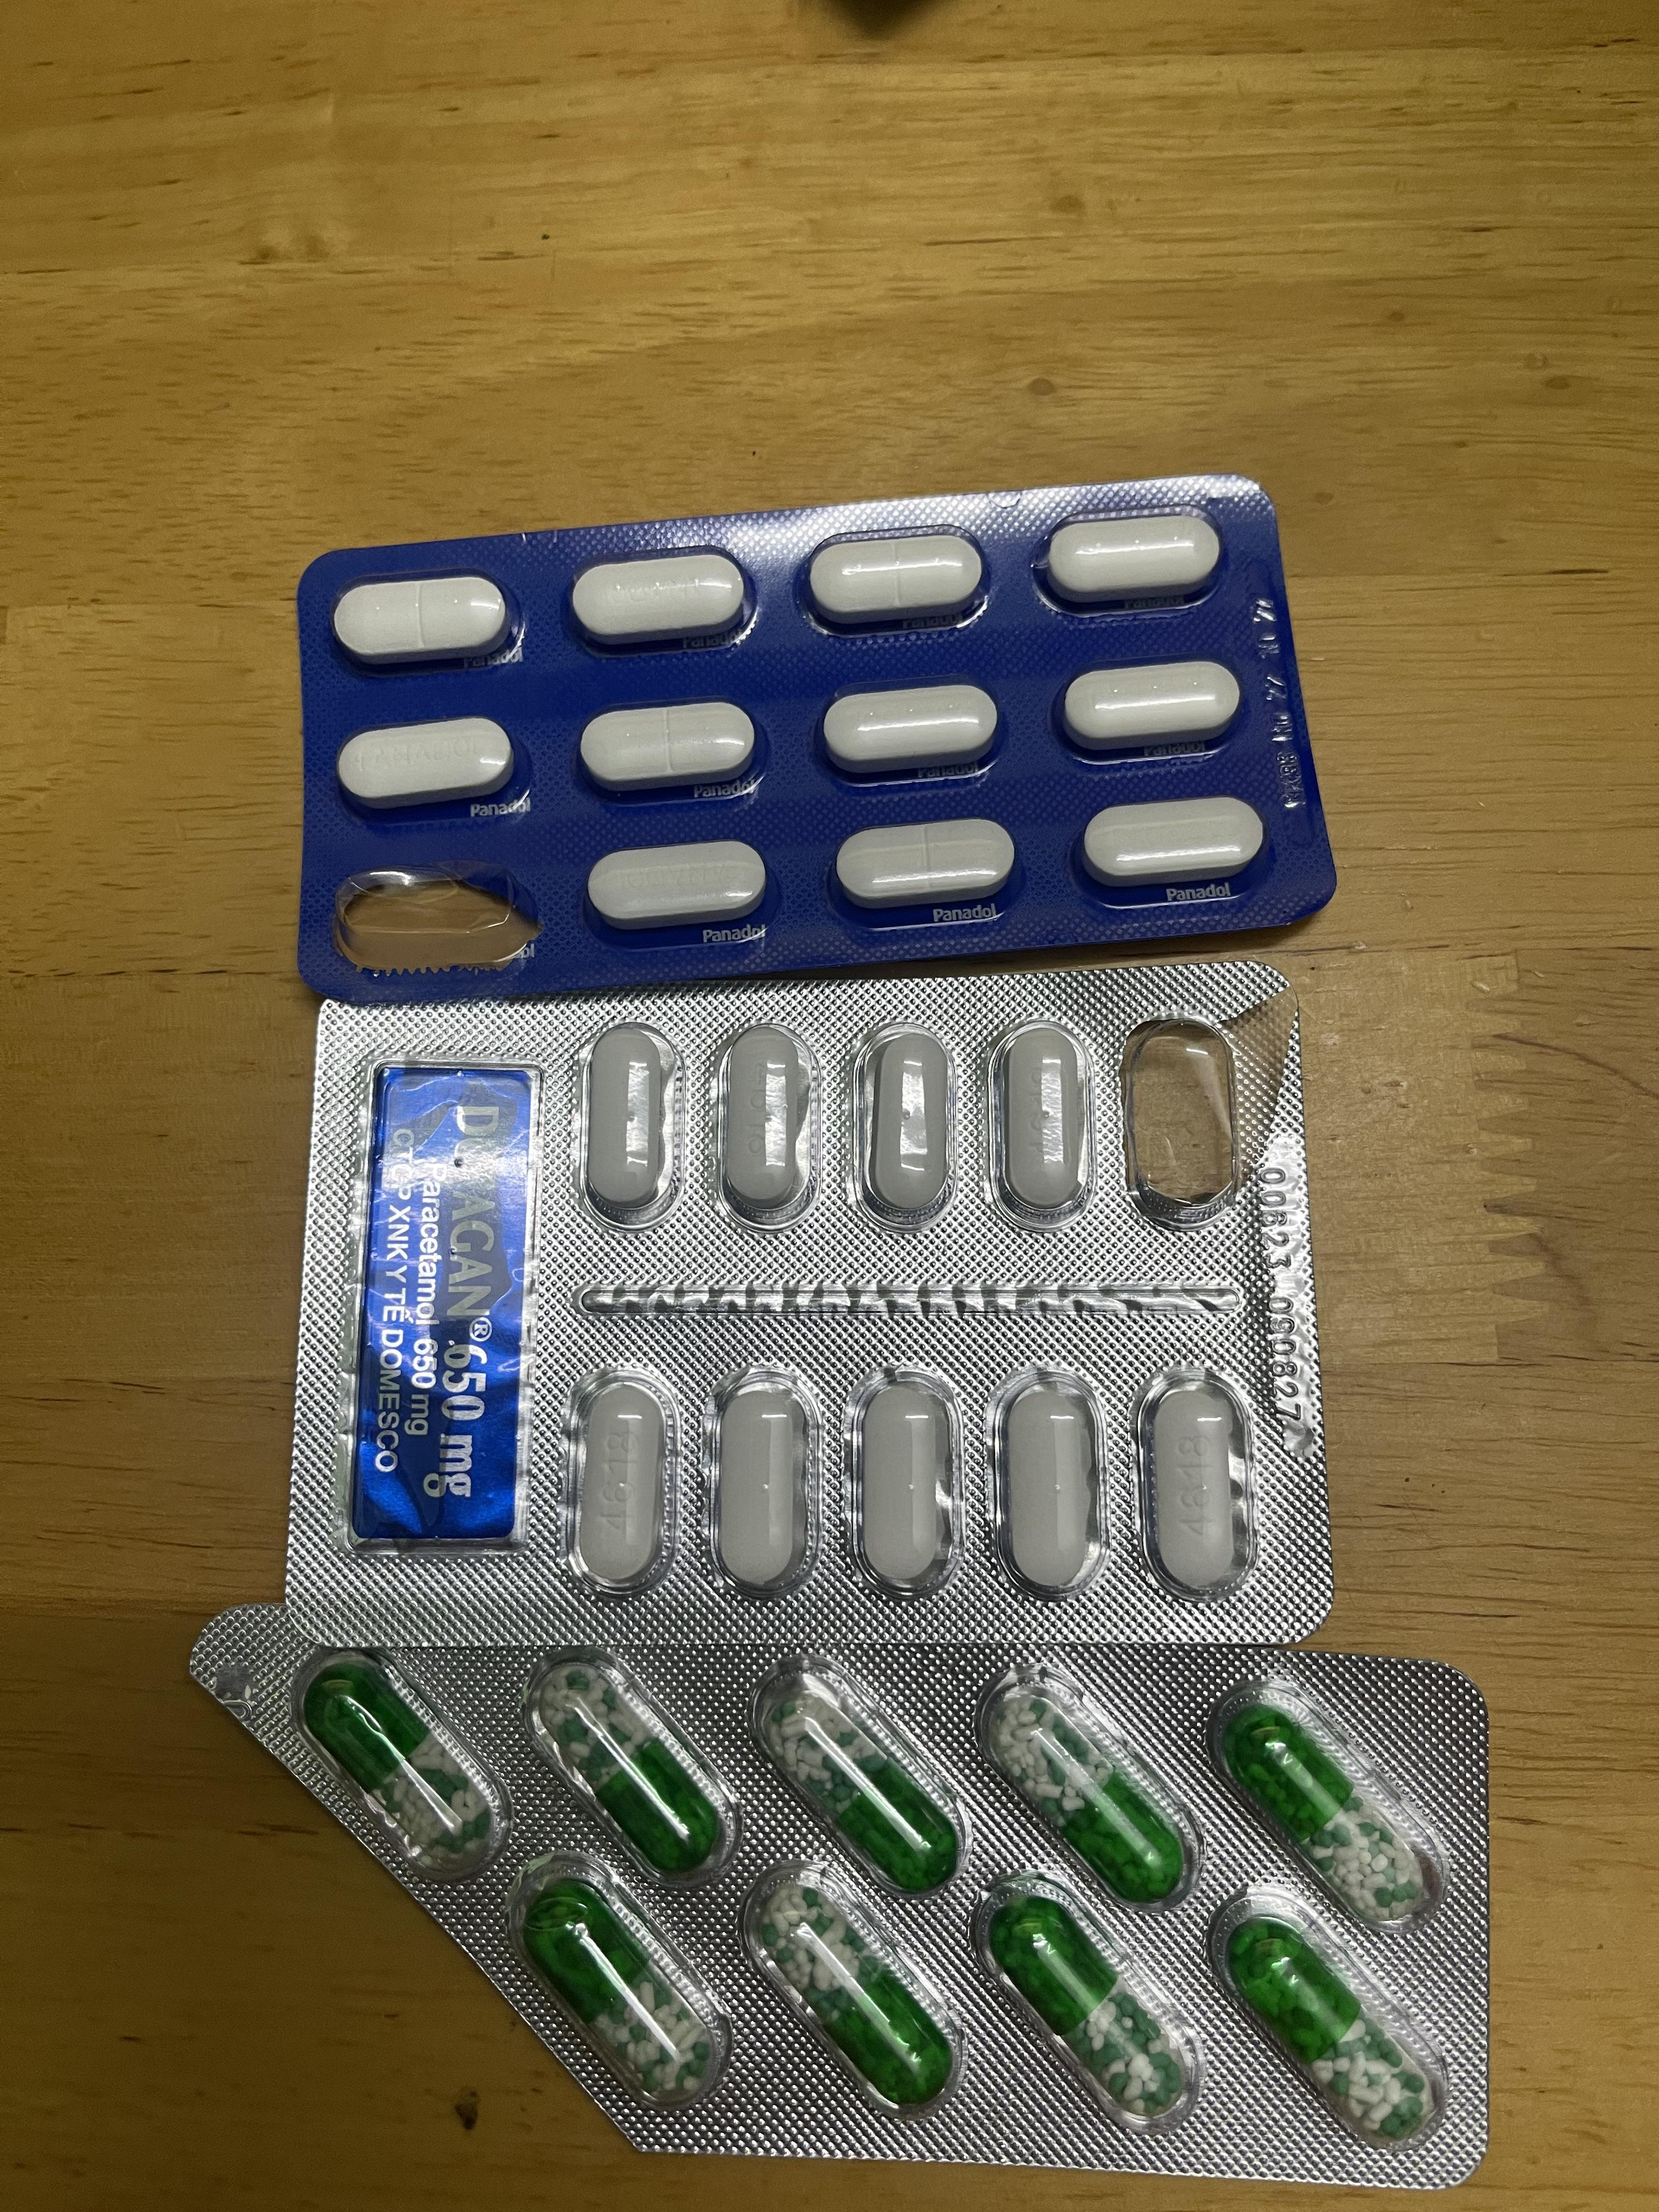Paracetamol_350mg: (1080, 796, 1270, 888), (573, 552, 751, 648), (807, 533, 986, 627), (836, 817, 1018, 909), (821, 685, 1002, 775), (1044, 512, 1223, 603), (580, 702, 756, 794), (338, 716, 514, 808), (589, 840, 770, 928), (1060, 660, 1241, 749), (336, 575, 511, 667)
Paracetamol_500mg: (1138, 1369, 1260, 1599), (992, 1369, 1110, 1595), (561, 1372, 678, 1594), (850, 1376, 965, 1594), (706, 1376, 821, 1594), (985, 1019, 1098, 1221), (713, 1024, 819, 1223), (854, 1024, 958, 1223), (577, 1026, 681, 1219)
Paracetamol_650mg: (1225, 1914, 1436, 2135), (1227, 1703, 1431, 1919), (986, 1681, 1188, 1897), (990, 1895, 1188, 2113), (758, 1885, 951, 2102), (763, 1672, 957, 1888), (528, 1883, 716, 2099), (537, 1662, 725, 1874), (312, 1667, 495, 1864)
